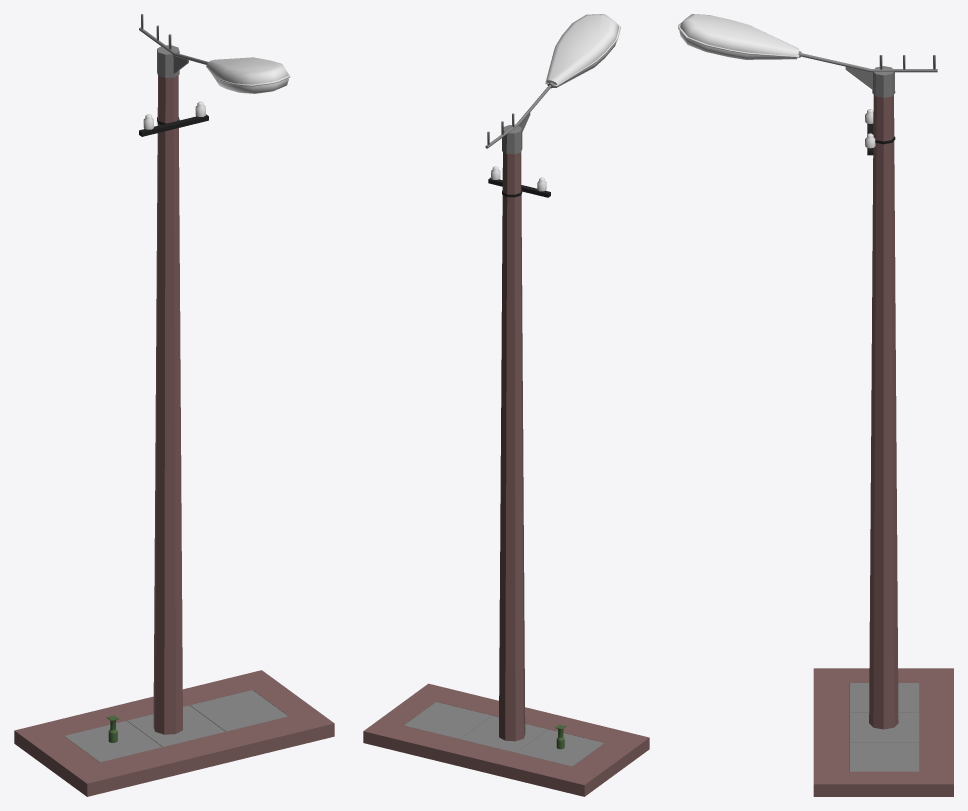
Rendered from FuelLamp.fbx.
3 renders of one model, left to right at view 1: azimuth 30°, elevation 25°; view 2: azimuth 150°, elevation 25°; view 3: azimuth 270°, elevation 25°, orthographic. The views are drawn at different scales.
Visible parts, largest first — view 1: Cylinder.007; view 2: Cylinder.007; view 3: Cylinder.007.
Part boxes in pixels (<box>): Cylinder.007: <box>14,14,334,796</box>; Cylinder.007: <box>363,14,649,796</box>; Cylinder.007: <box>678,14,953,796</box>.
Bounding box in the file's own units: 496 × 1426 × 497.
